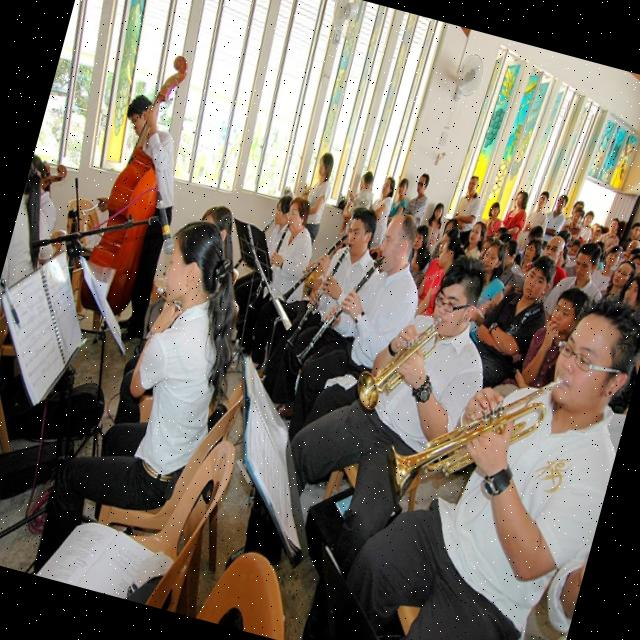clarinet: (292, 236, 387, 378), (284, 234, 354, 361), (280, 222, 348, 316), (246, 217, 292, 315), (230, 208, 276, 280)
